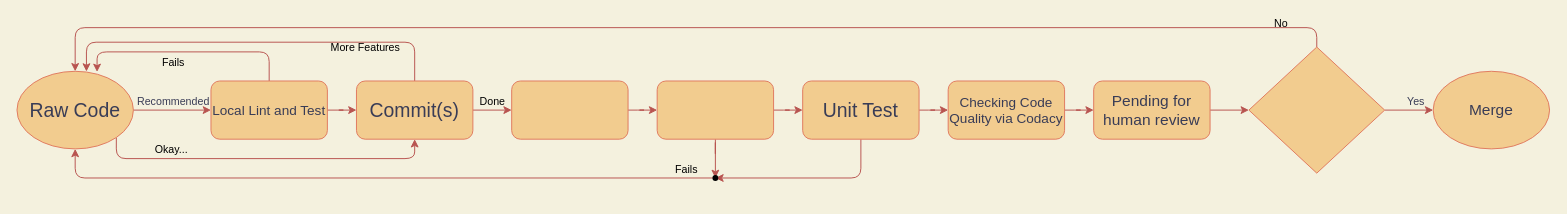
Image size: 1567x214. Some labels were removed from this diagram. Here are the shapes that lost their labels. From the top down, the centre of each, then its label:
(569,109): Push
(715,109): linting and code style enforcement
(1316,109): Pull Request Approve
